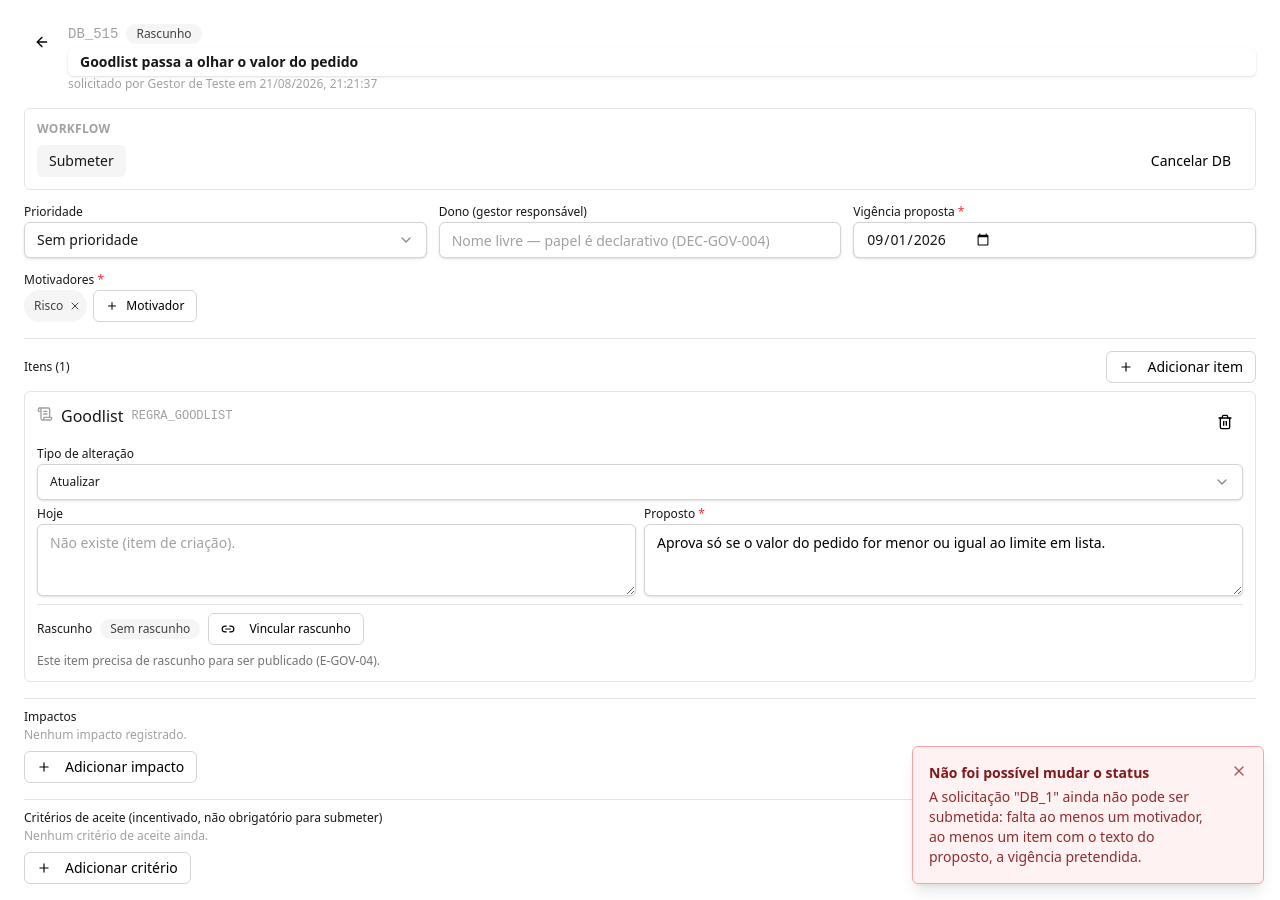
ChangeRequestDetail — vínculo e publicação (S36) › vincular pela linha do item cria o rascunho apontando o DB e mostra o comparativo
The image size is (1280, 900).
Expected: the text "Sem rascunho" is shown, [100,619,200,639]
Click the button "Vincular rascunho".
click(286, 629)  # box [208,613,364,645]
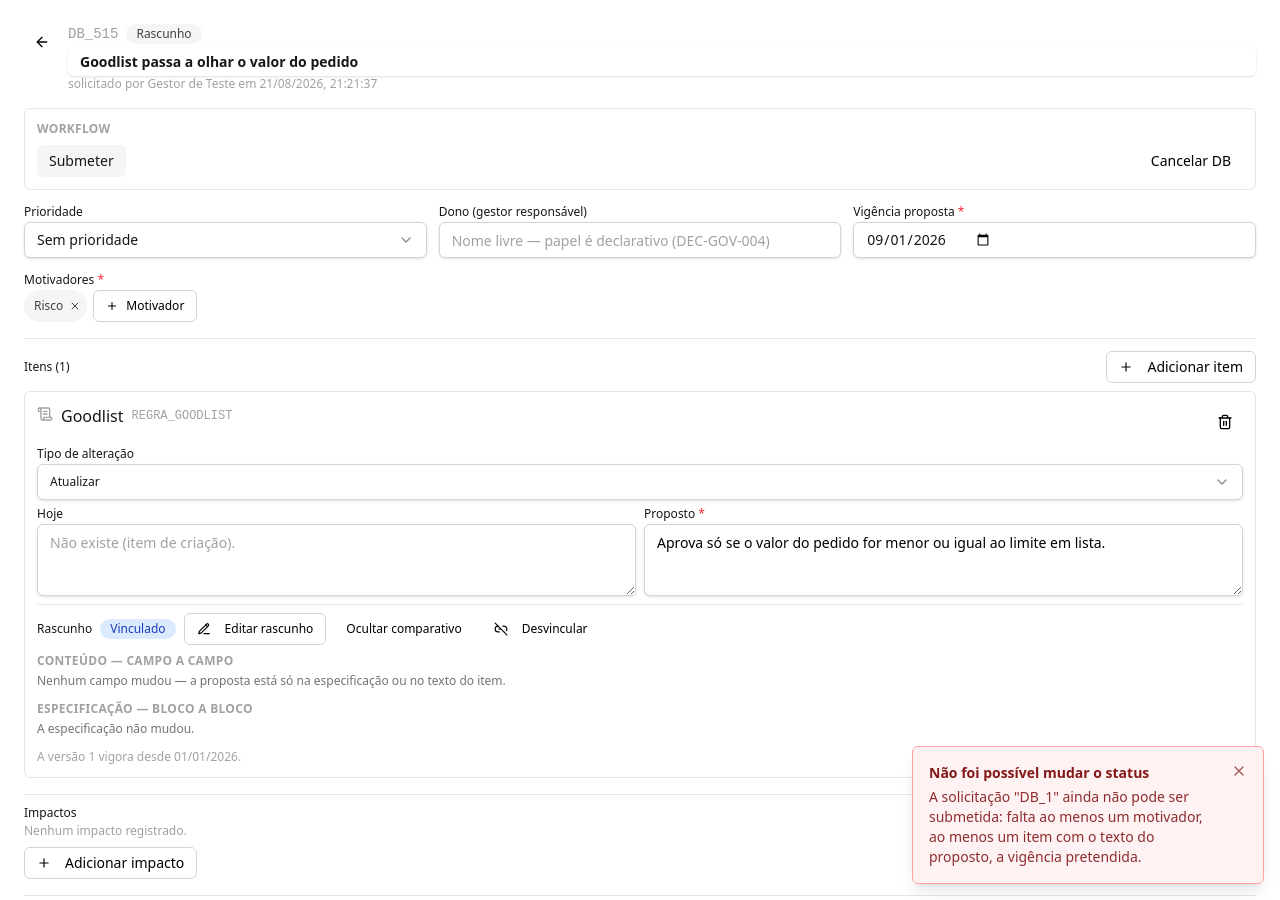
Expected: the text "Vinculado" is shown, [100,619,176,639]
Expected: the text "Conteúdo — campo a campo" is shown, [37,652,234,669]
